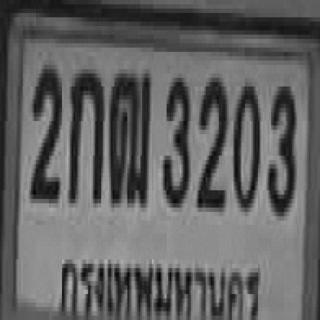A01: (67, 65, 103, 199)
A18: (108, 69, 150, 203)
N00: (232, 78, 258, 208)
N02: (30, 60, 60, 199), (196, 74, 225, 208)
N03: (266, 82, 294, 212), (162, 74, 188, 203)
P04: (51, 238, 274, 320)
